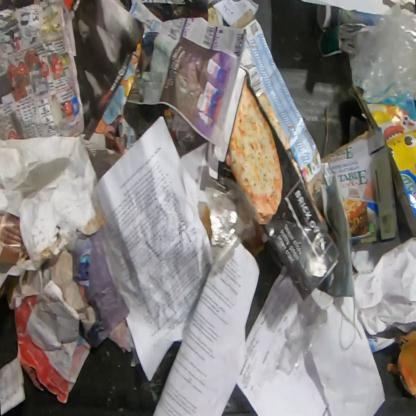cardboard: (219, 18, 341, 306), (0, 133, 106, 299), (5, 266, 92, 404), (320, 126, 398, 249), (41, 248, 97, 338), (385, 330, 416, 399)
soft_plastic: (347, 1, 415, 105), (200, 167, 264, 273), (276, 297, 328, 379)
